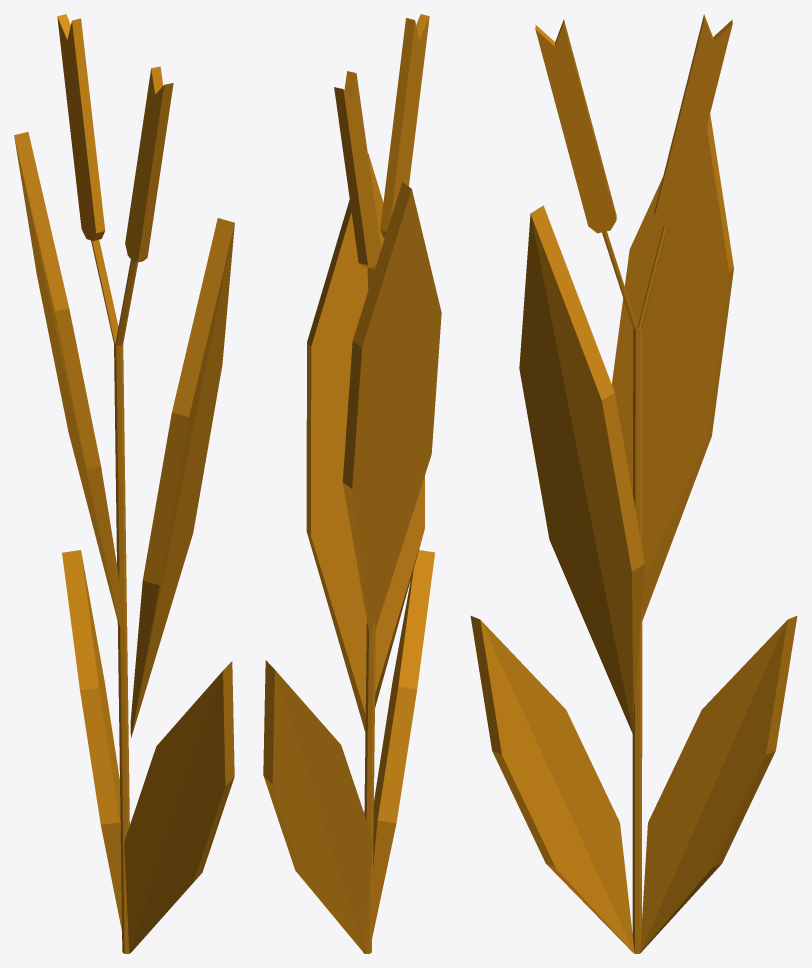
Rendered from Trigo stage 3.fbx.
3 views of the same model, side by side, from view 1: azimuth 30°, elevation 25°; view 2: azimuth 150°, elevation 25°; view 3: azimuth 270°, elevation 25° (orthographic). The views are drawn at different scales.
Visible parts, largest first — view 1: leaves.001; view 2: leaves.001; view 3: leaves.001.
Part boxes in pixels (<box>): leaves.001: <box>14,14,234,953</box>; leaves.001: <box>263,14,441,953</box>; leaves.001: <box>470,14,797,953</box>.
Size of the model in its own units: 37.67 by 210 by 66.95.
